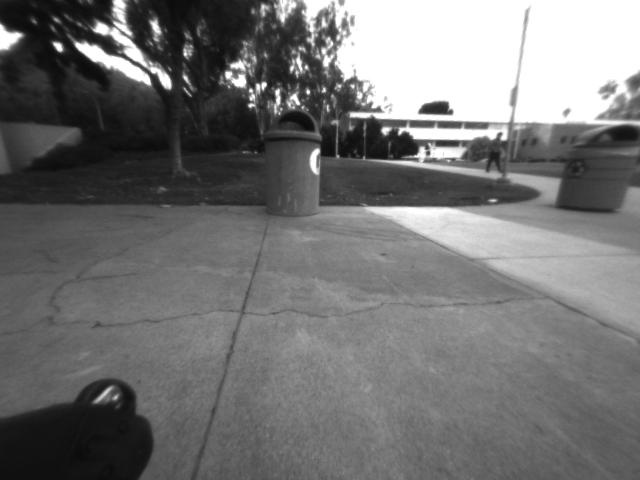trashcan: (250, 107, 332, 222)
